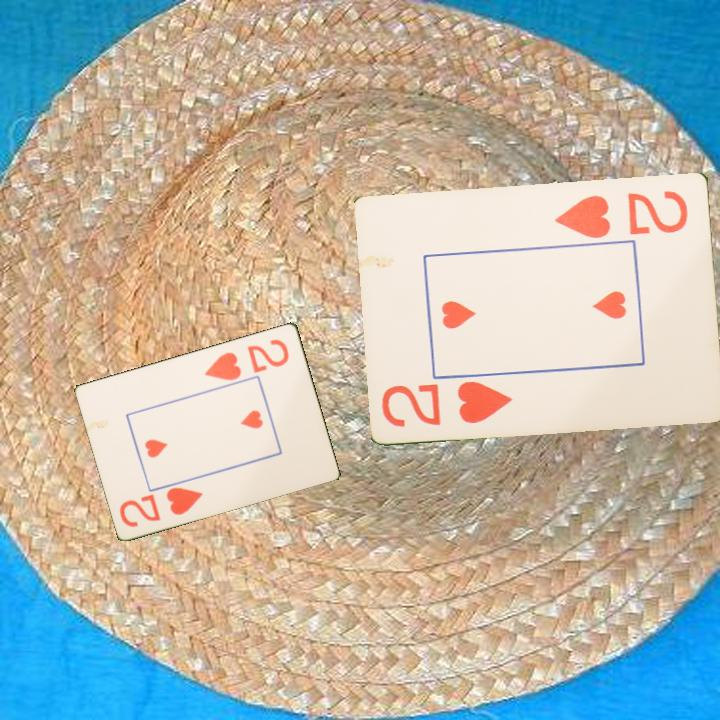2h: (552, 186, 691, 241), (378, 376, 516, 430), (201, 335, 292, 383), (116, 483, 206, 530)
